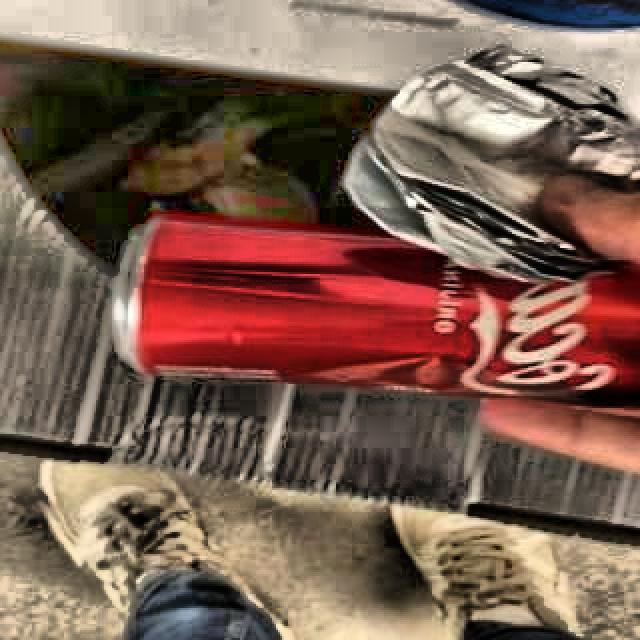metal: (112, 218, 640, 410)
